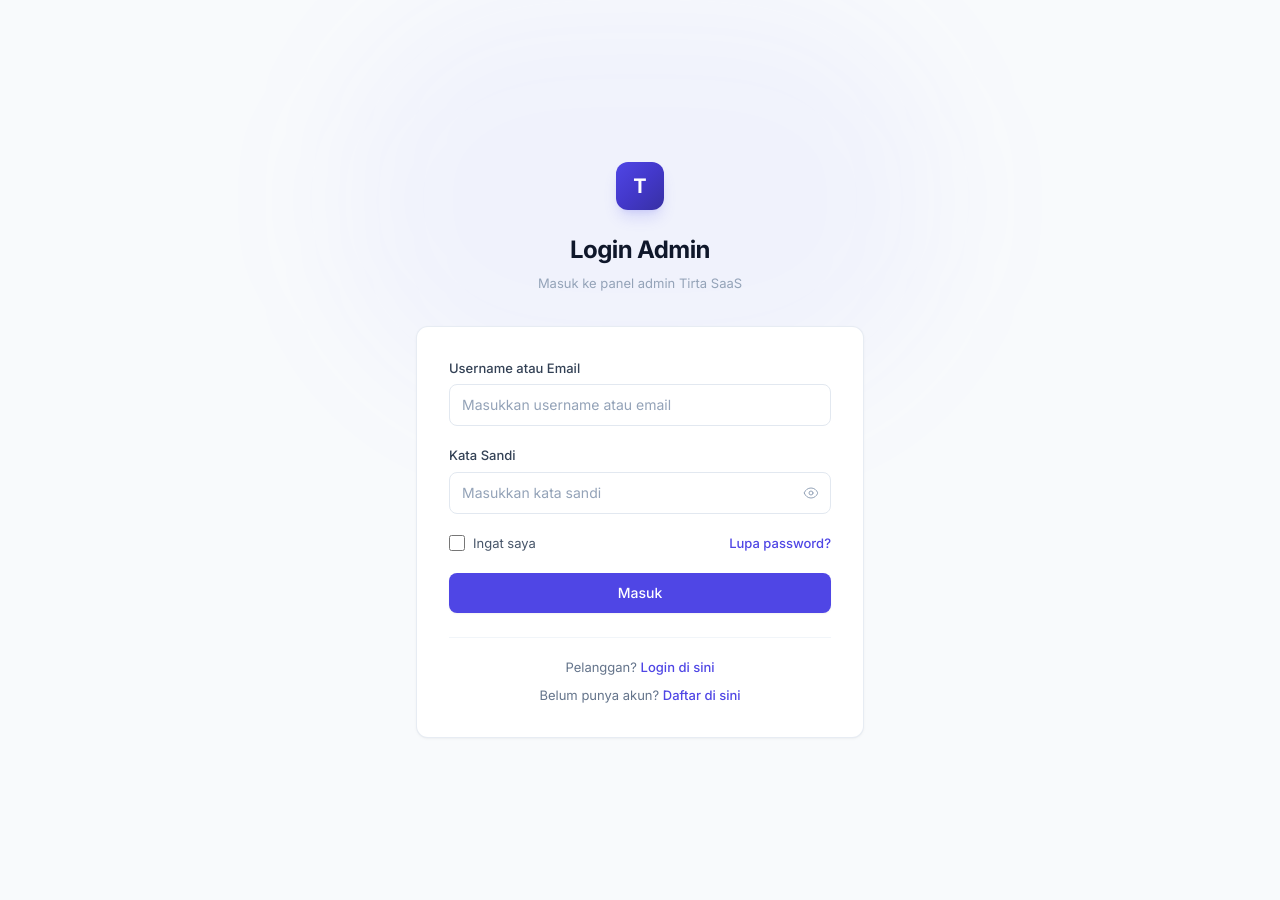
Test: AdminLogin › shows trial expired modal when tenant status is expired
Type "admin_utama" into the field with placeholder "Masukkan username atau email" at (640, 405), box [449,384,831,426]
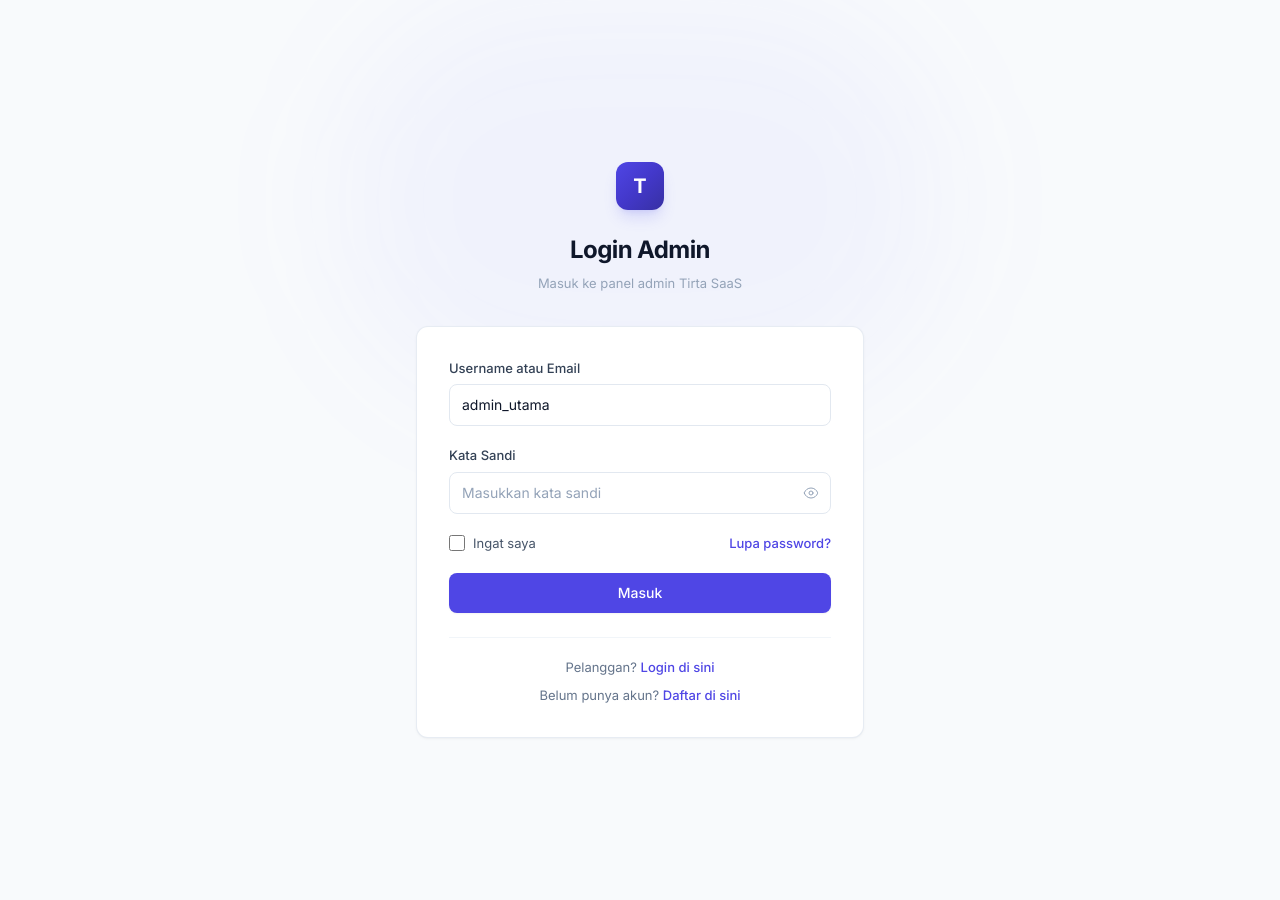
Type "password123" into the password field with placeholder "Masukkan kata sandi" at (640, 492), box [449,472,831,514]
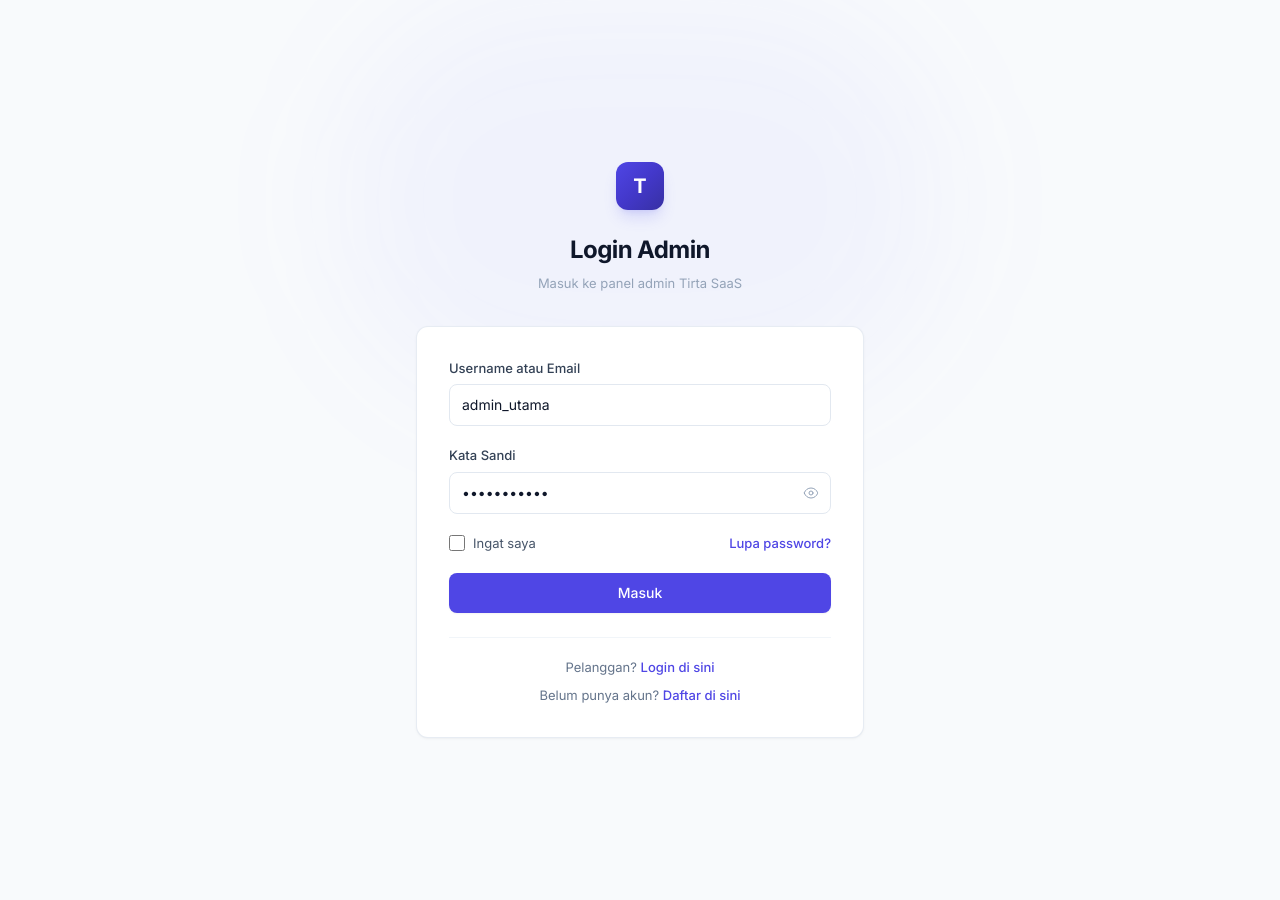
Click the button "Masuk" at (640, 593), box [449,573,831,613]
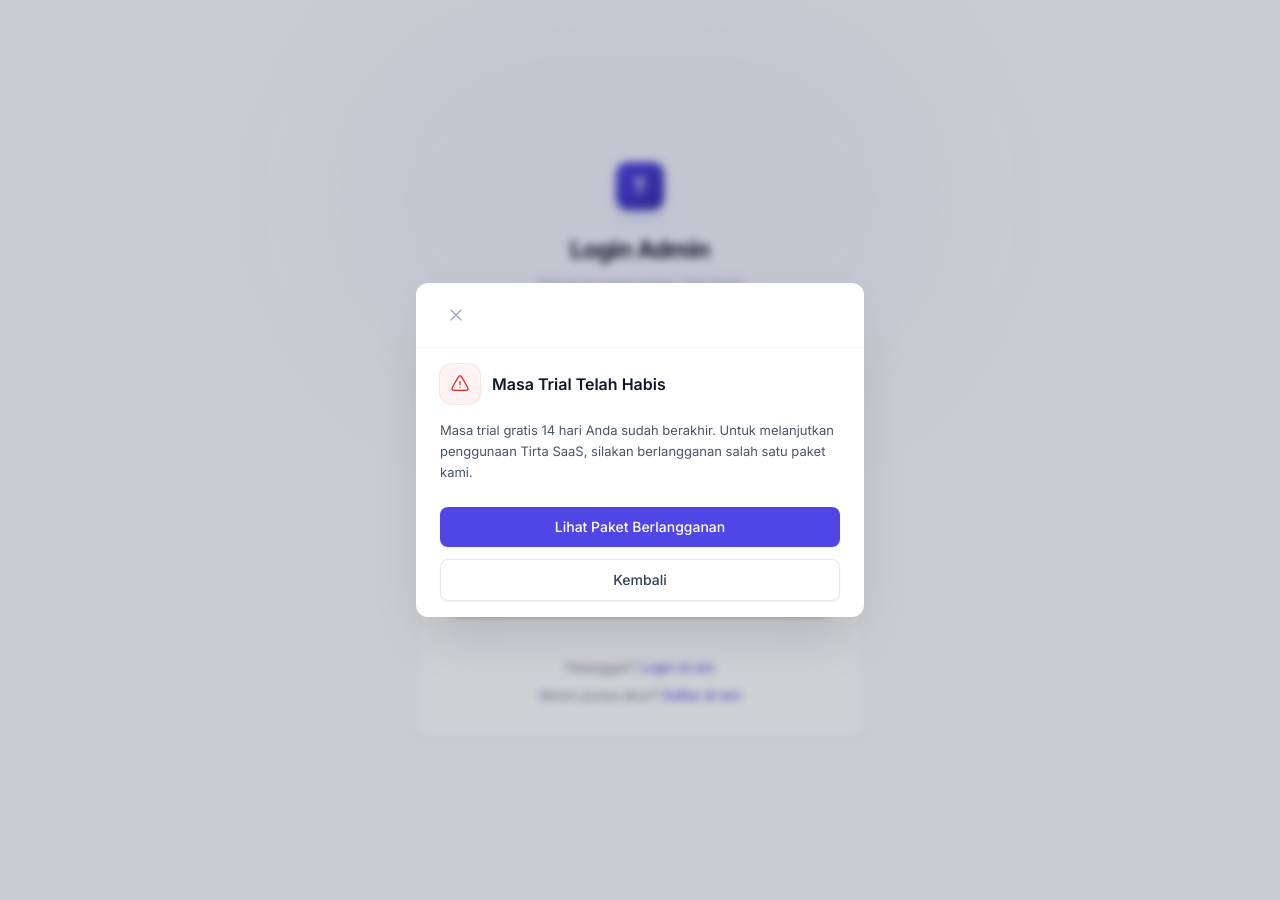
Now the heading "Masa Trial Telah Habis" is shown, box [492,372,666,396]
